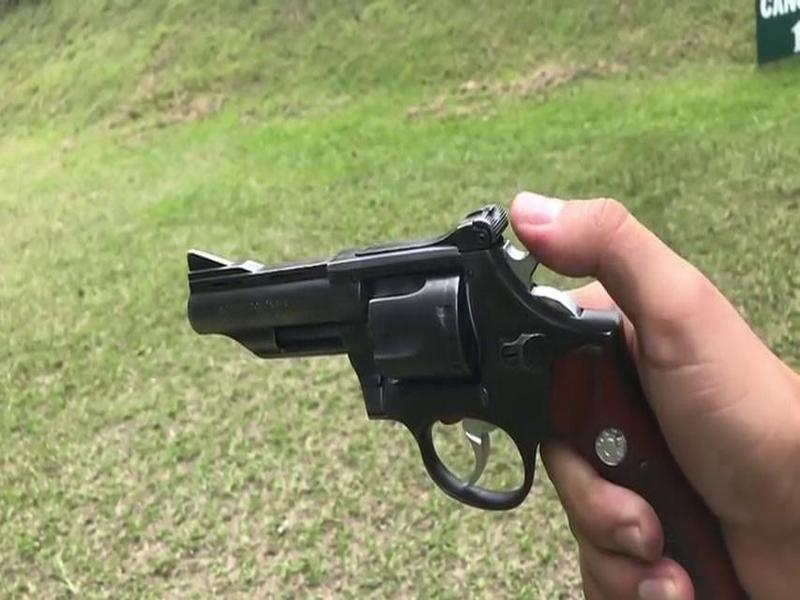Revolver: (165, 197, 690, 553)
